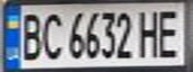2: (115, 7, 136, 60)
3: (100, 8, 118, 60)
6: (63, 8, 87, 60), (81, 8, 103, 60)
B: (18, 9, 45, 62)
C: (39, 9, 66, 61)
E: (154, 6, 187, 58)
H: (136, 6, 163, 60)
